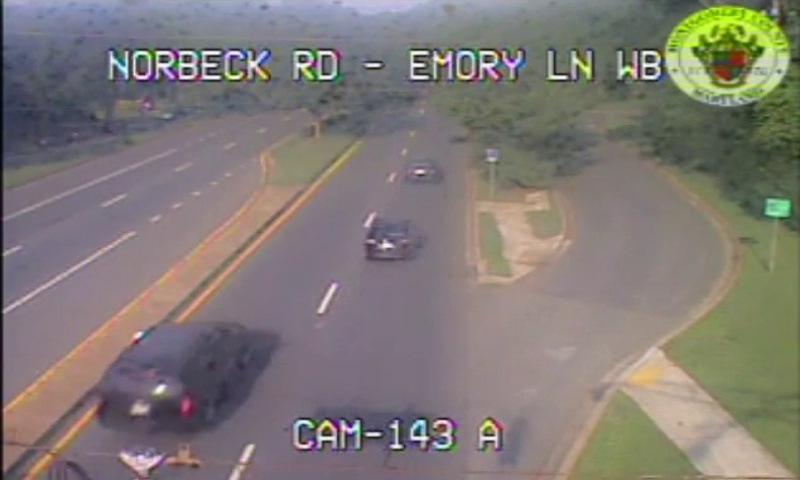car: (99, 321, 249, 426), (363, 220, 412, 259), (406, 162, 434, 181)
